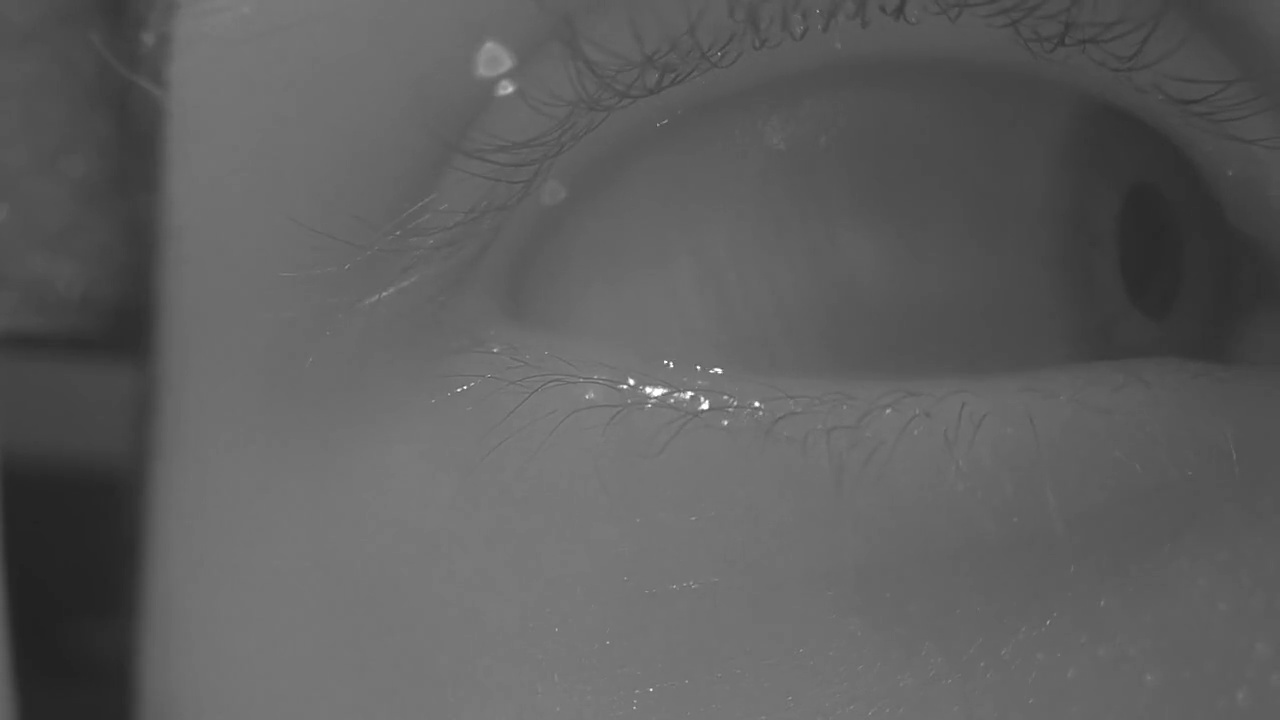pupil: (1118, 180, 1188, 323)
